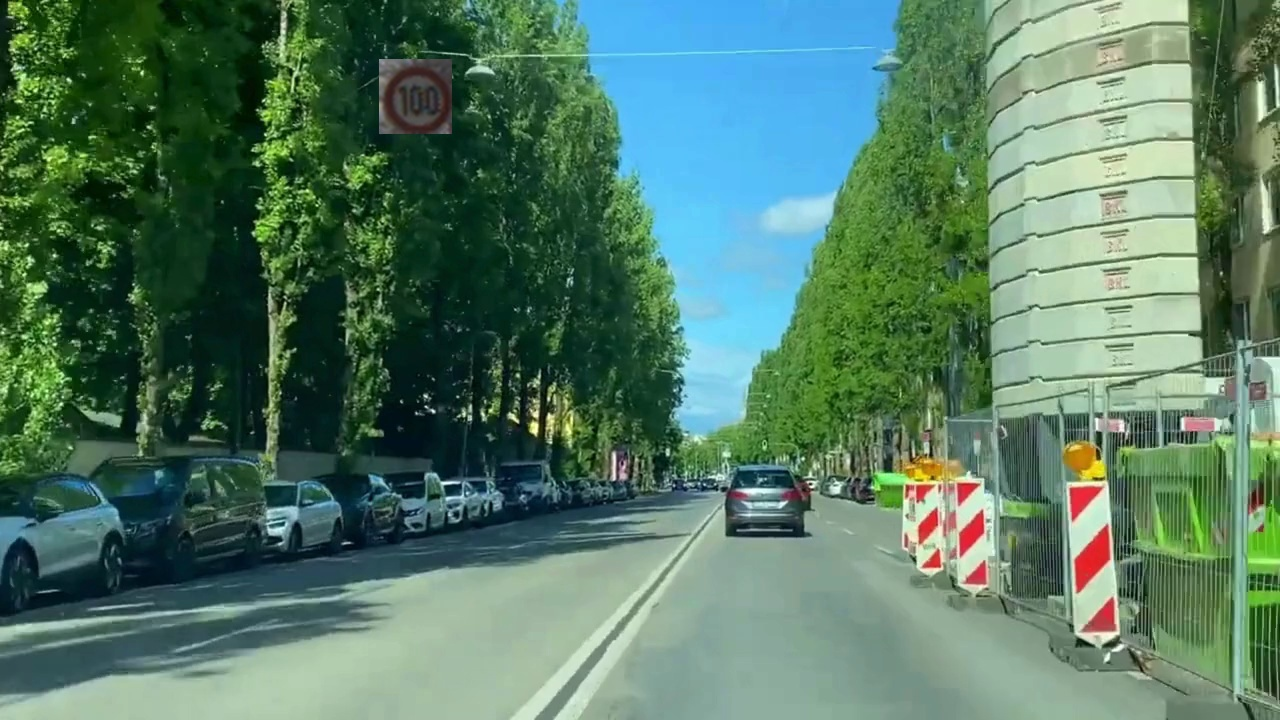Speed 100: (379, 59, 452, 134)
